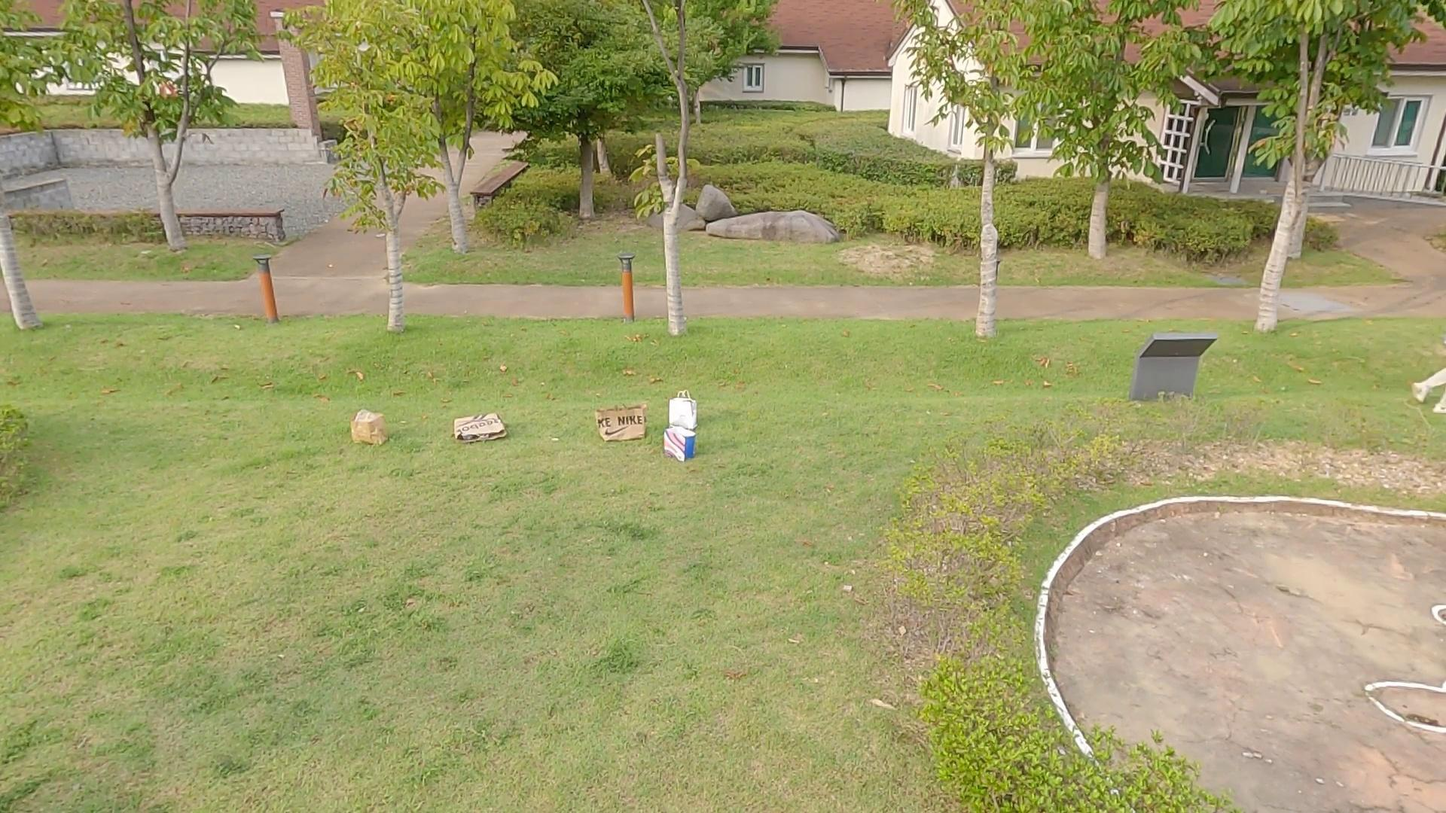trash: (593, 401, 649, 440), (349, 402, 389, 450), (447, 414, 511, 443), (660, 418, 699, 465), (669, 387, 698, 432)
